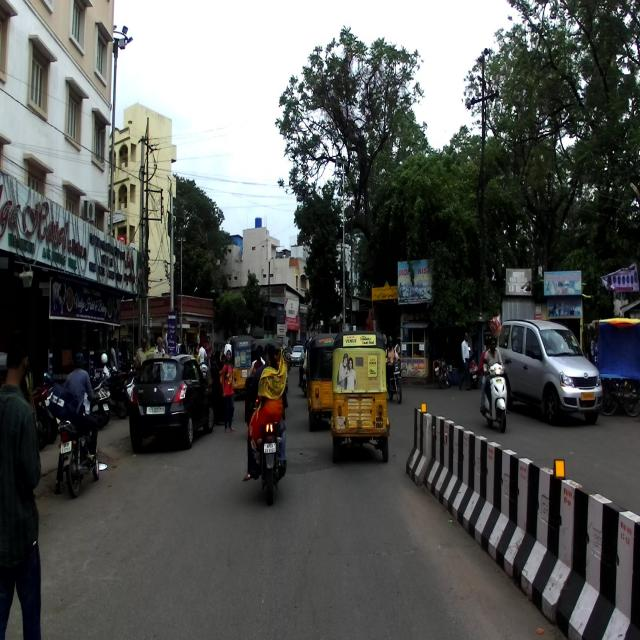autorickshaw: (328, 328, 390, 467)
car: (494, 317, 603, 426), (127, 352, 216, 454)
motorcycle: (56, 395, 100, 498), (248, 397, 287, 508)
scooter: (480, 358, 509, 433)
